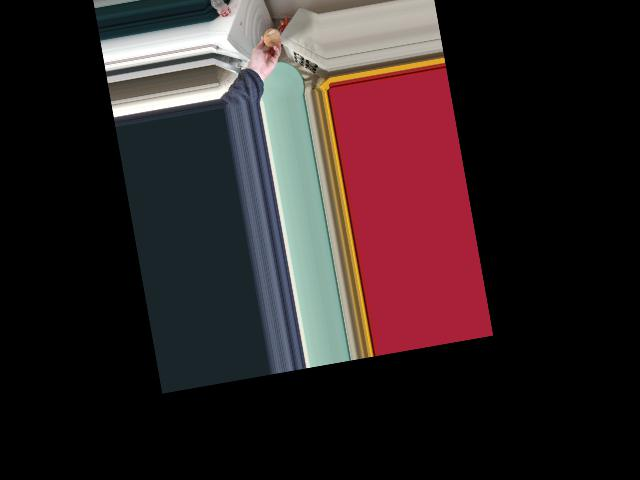sweet_potato: (261, 28, 280, 50)
